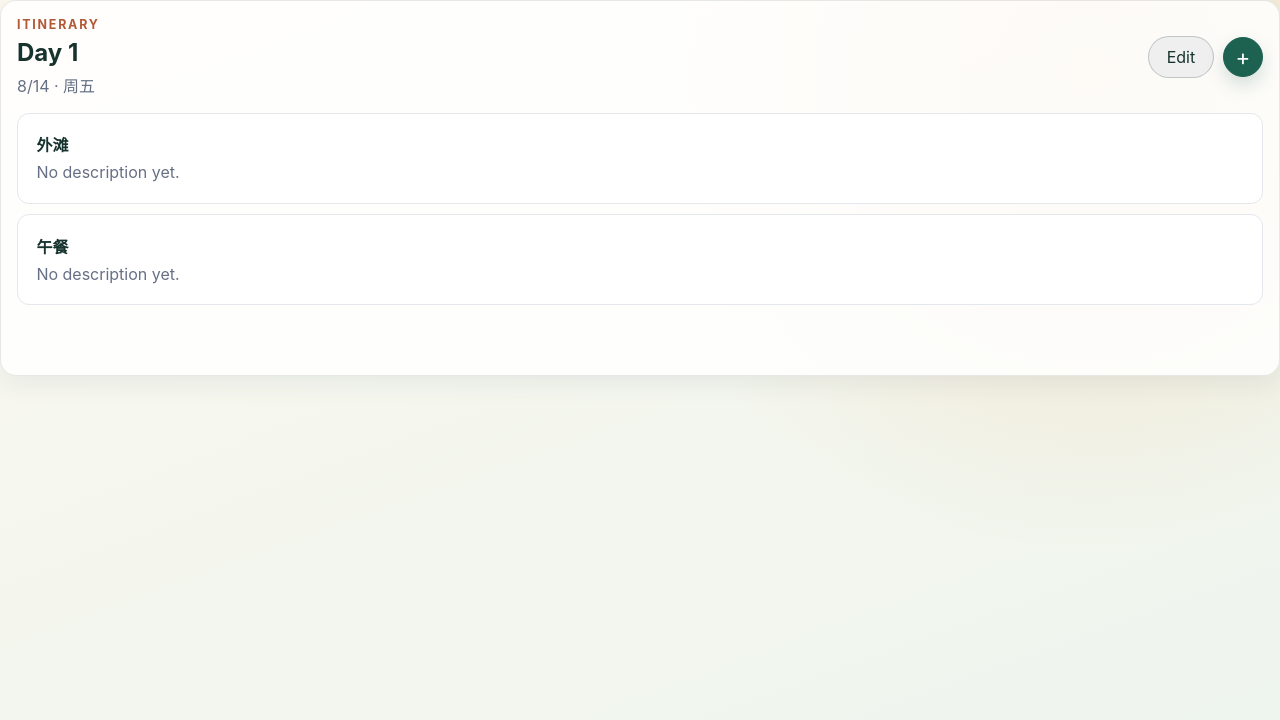
Test: workspace edit keeps drag handles, arrow controls, and confirms item delete
The image size is (1280, 720).
Check: the heading "外滩" is shown, box [36, 135, 68, 155]
Click the button with test id "edit-itinerary" at (1181, 57), box [1148, 36, 1214, 78]
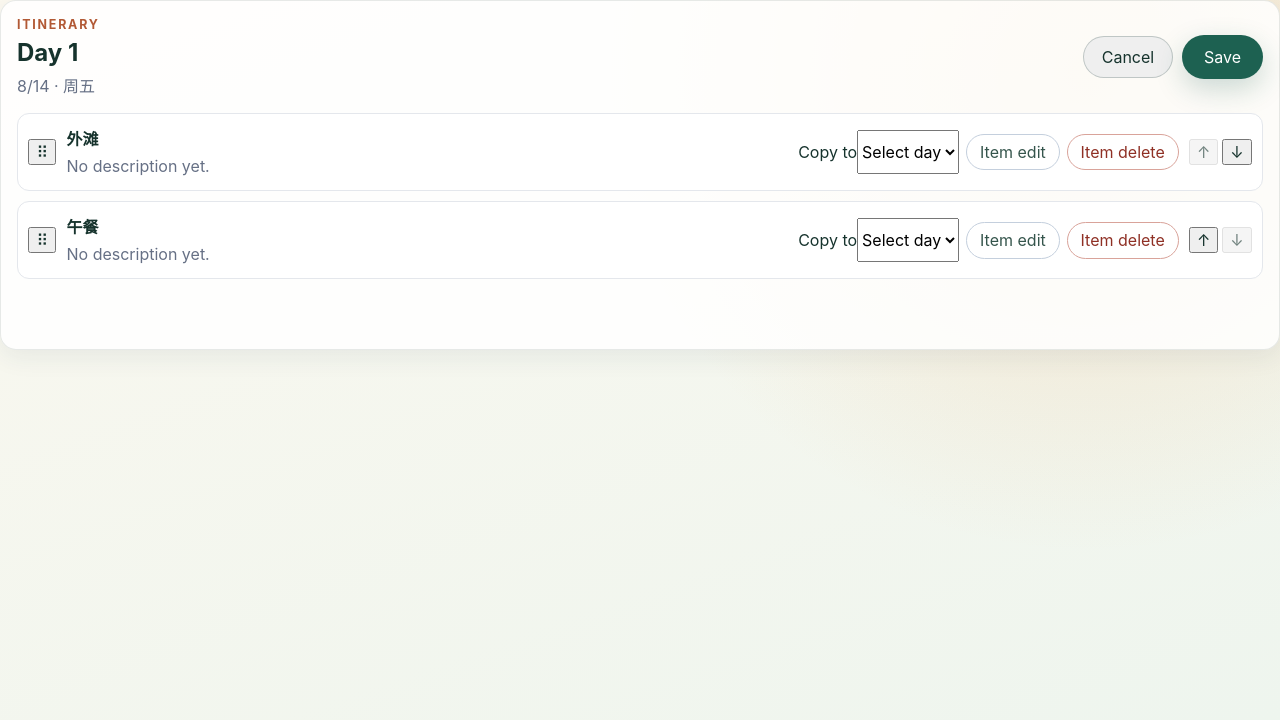
Check: the button named "Drag 外滩" is shown, box [28, 139, 56, 165]
Check: the button named "Move 外滩 up" is shown, box [1189, 139, 1218, 165]
Check: the button named "Move 外滩 down" is shown, box [1222, 139, 1252, 165]
Click the button with aria-label "Item delete 外滩" at (1123, 152), box [1067, 134, 1179, 170]
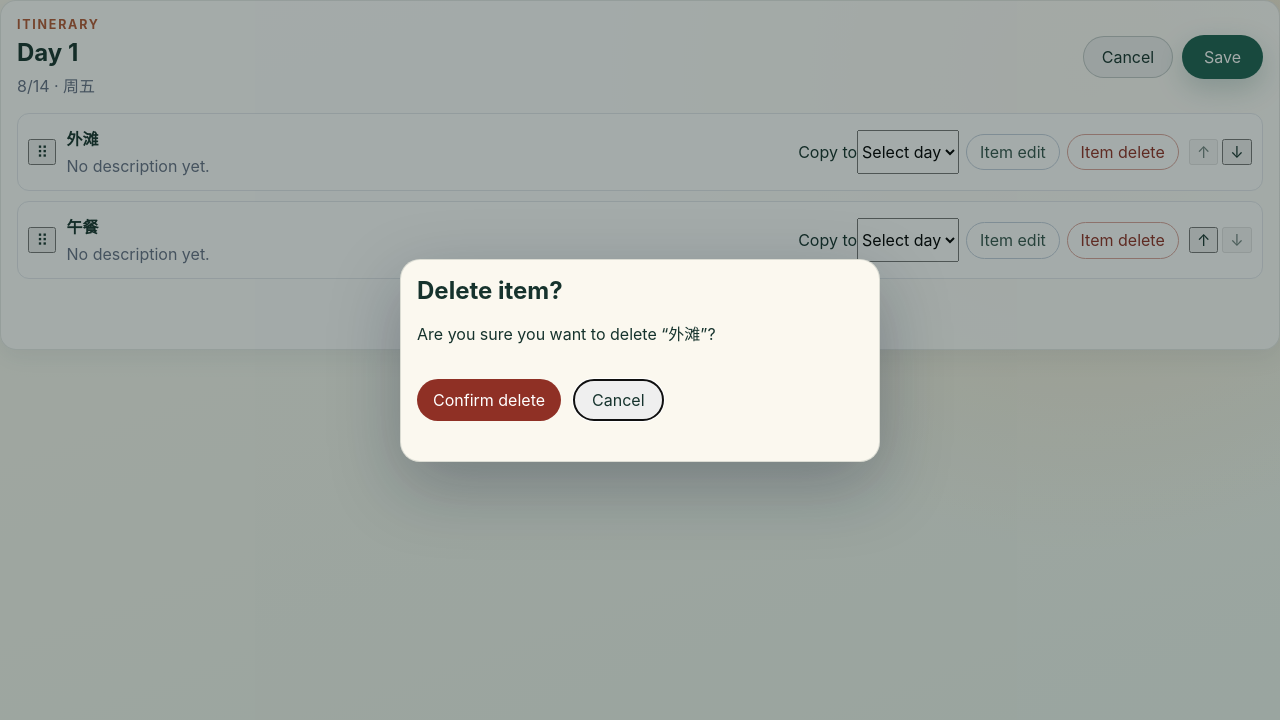
Check: the dialog "Delete item?" is shown, box [400, 258, 880, 462]
Click the button with test id "cancel-delete-item" at (618, 400), box [573, 378, 664, 420]
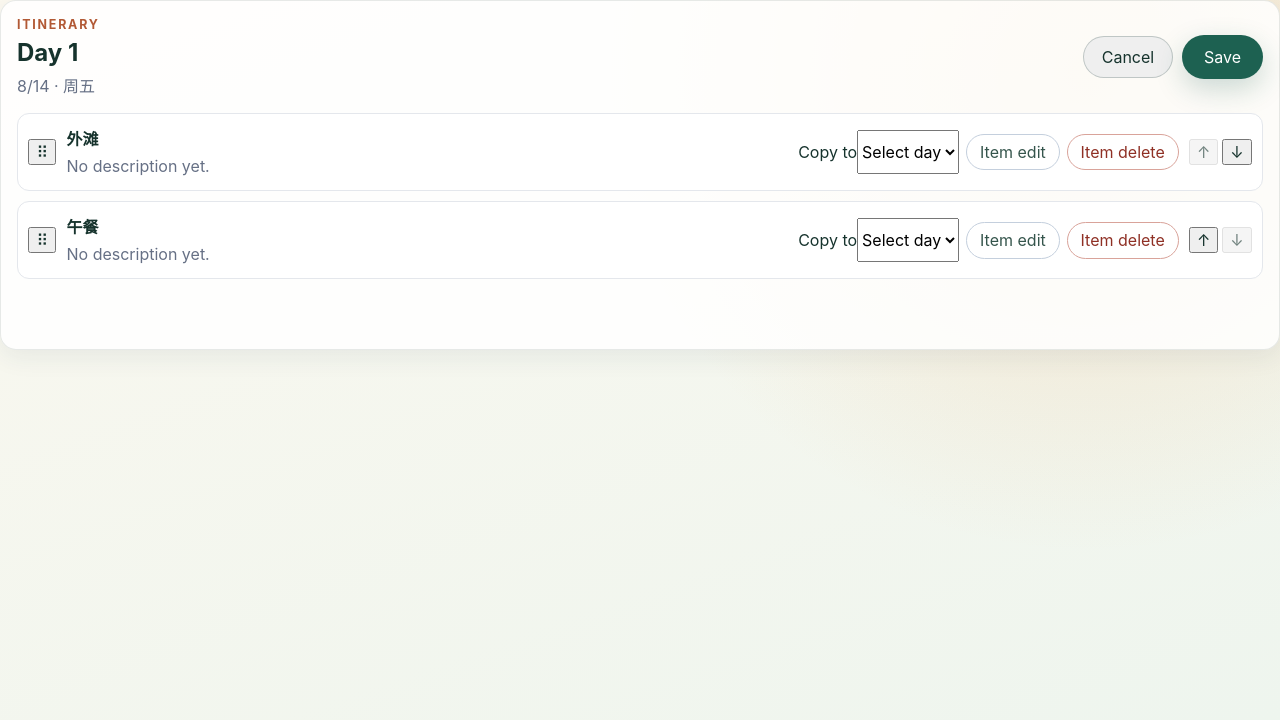
Check: the element with test id "itinerary-item" that starts with "No description yet." is shown, box [66, 124, 1178, 180]
Check: the dialog with test id "delete-item-dialog" is gone
Click the button with aria-label "Item delete 外滩" at (1123, 152), box [1067, 134, 1179, 170]
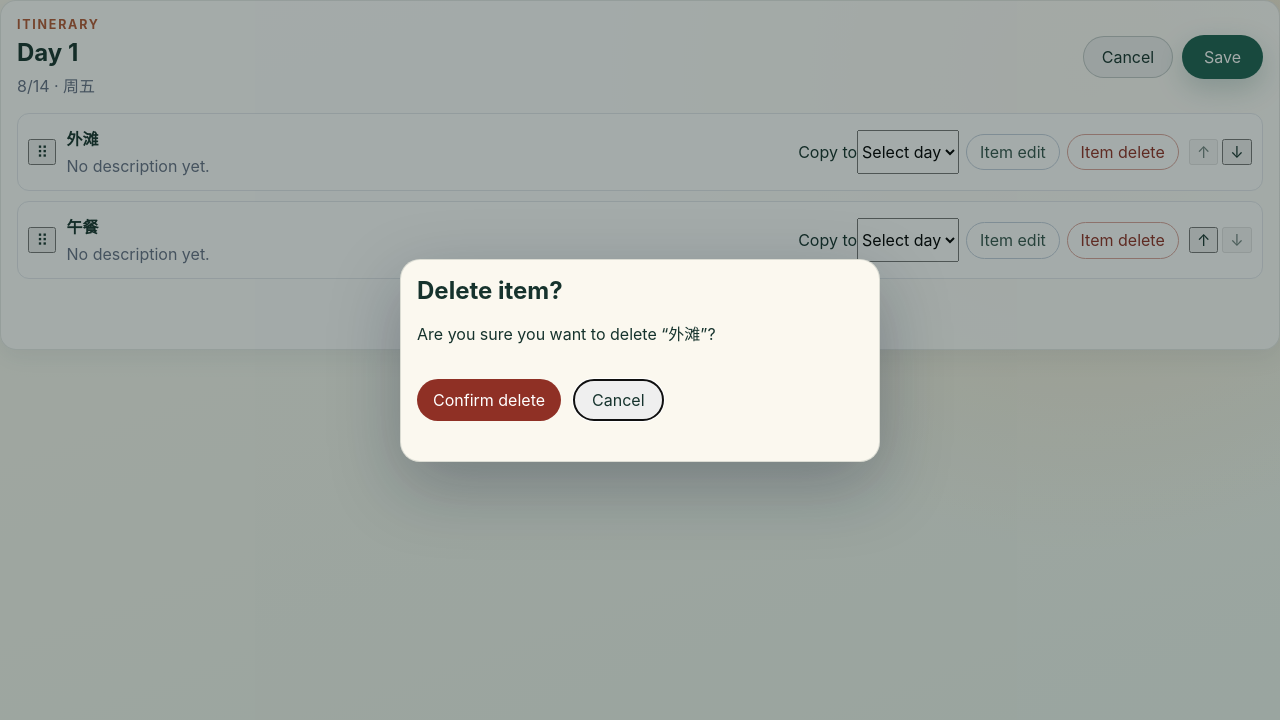
Click the button with test id "confirm-delete-item" at (489, 400), box [417, 378, 561, 420]
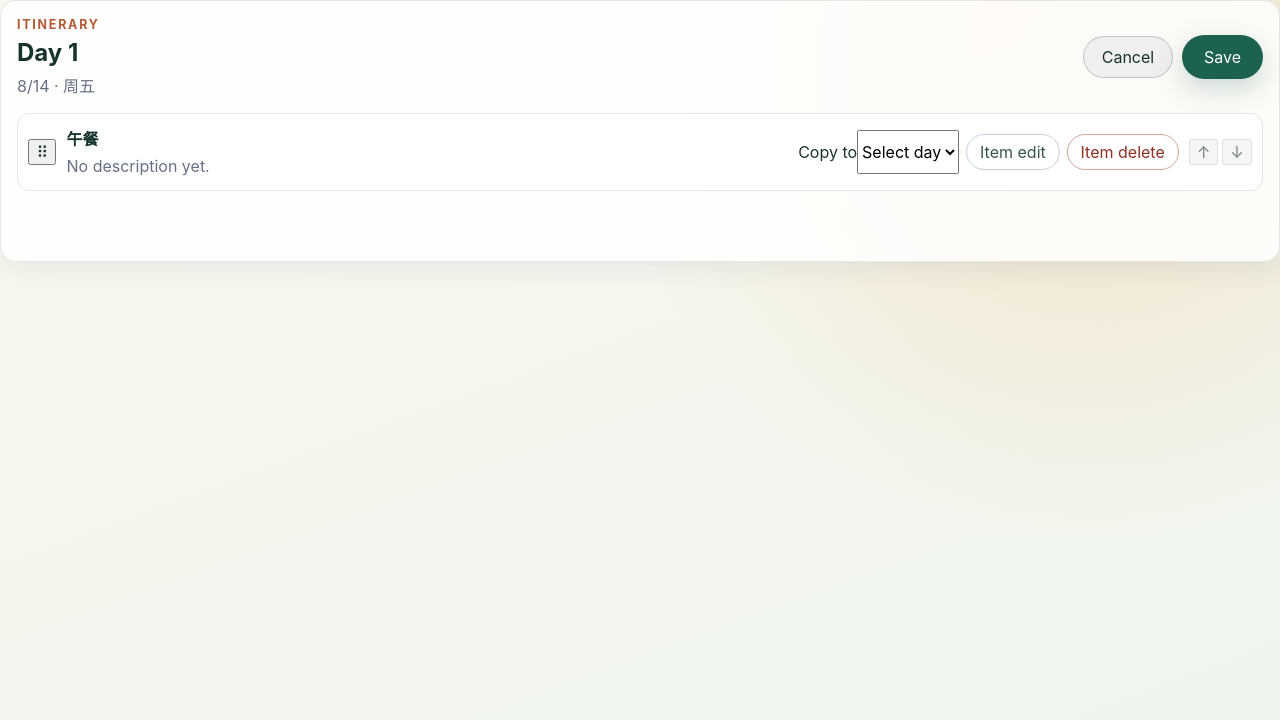
Check: the heading "外滩" is gone
